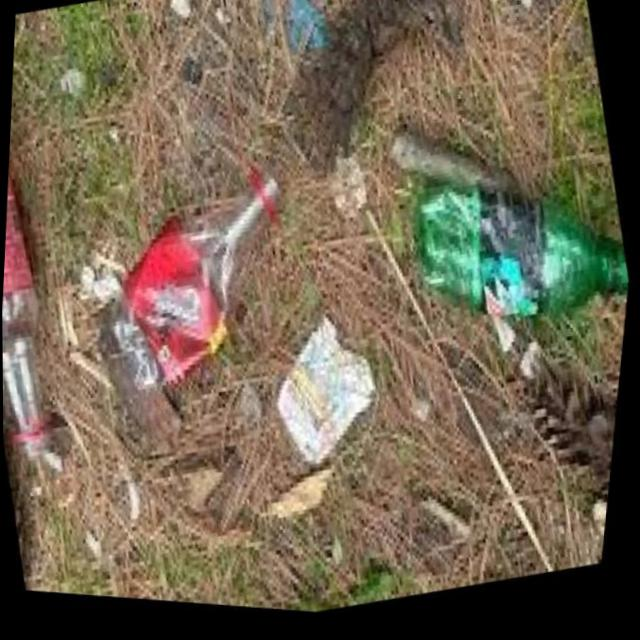leaf: (51, 116, 354, 460), (0, 55, 135, 566), (380, 128, 640, 388)
trash: (241, 294, 423, 517)
